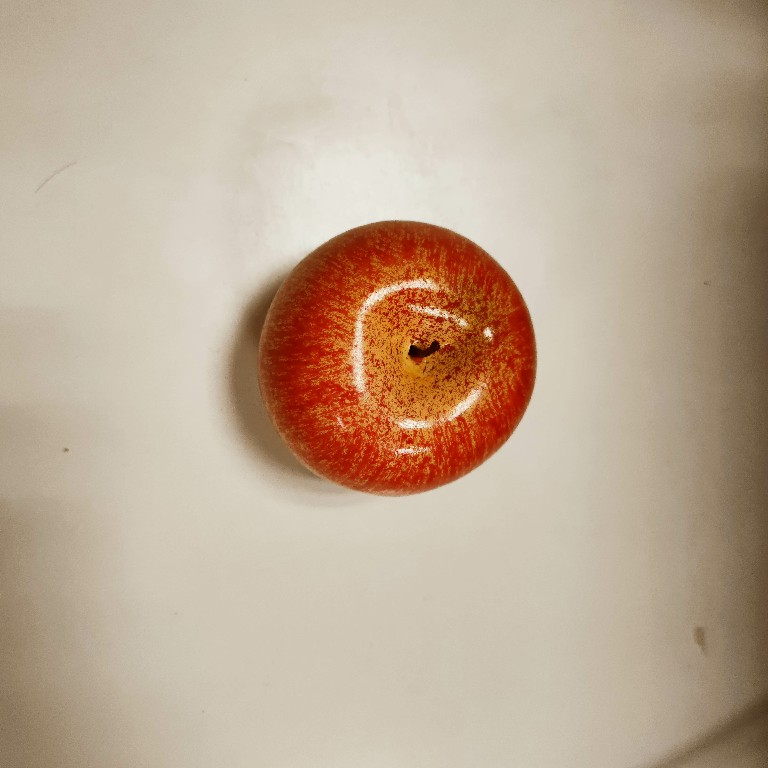fruit_apple: (250, 214, 542, 501)
